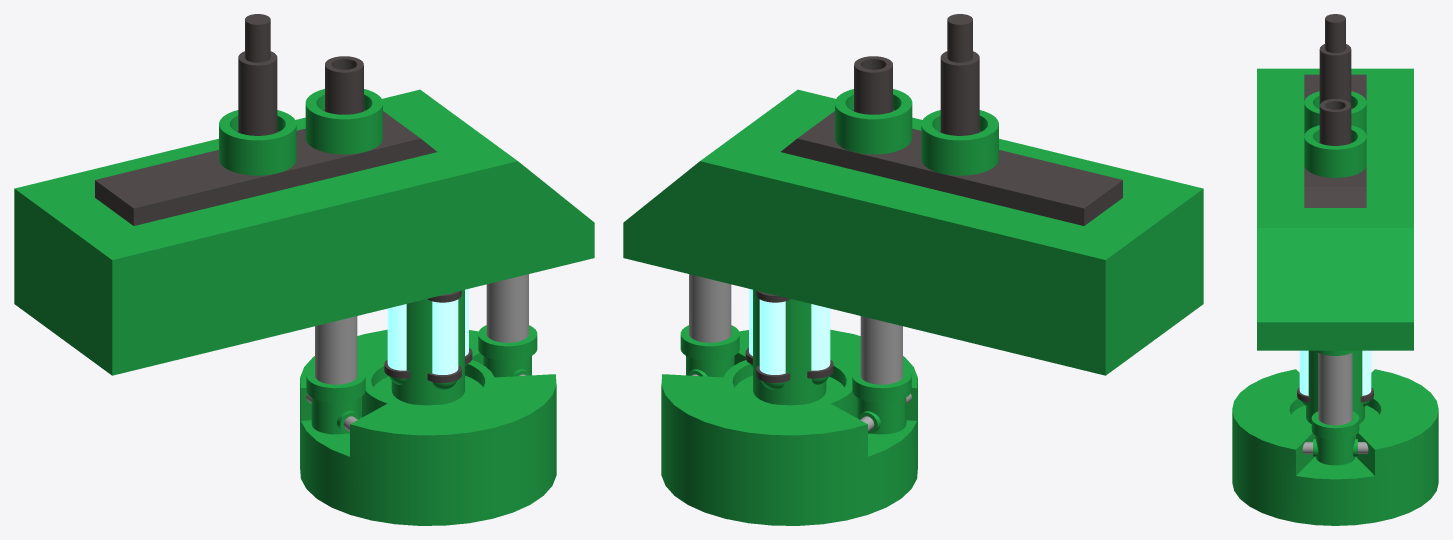
File: Drill_exhaust.fbx
3 views of the same model, side by side, from view 1: azimuth 30°, elevation 25°; view 2: azimuth 150°, elevation 25°; view 3: azimuth 270°, elevation 25° (orthographic). The views are drawn at different scales.
Visible parts, largest first — view 1: Cube.001, Cylinder, Cylinder.004, Cylinder.005, Cylinder.010, Cylinder.008, Cylinder.006, Cylinder.012, Cylinder.003, Cylinder.002, Cylinder.011; view 2: Cube.001, Cylinder, Cylinder.004, Cylinder.005, Cylinder.010, Cylinder.008, Cylinder.006, Cylinder.012, Cylinder.003, Cylinder.002, Cylinder.011; view 3: Cube.001, Cylinder, Cylinder.005, Cylinder.004, Cylinder.006, Cylinder.002, Cylinder.010, Cylinder.012, Cylinder.007.
Part boxes in pixels (x1,y1,x2,y2): Cube.001: (14, 89, 594, 375); Cylinder: (300, 329, 556, 525); Cylinder.004: (219, 14, 296, 175); Cylinder.005: (305, 56, 382, 154); Cylinder.010: (391, 289, 464, 405); Cylinder.008: (315, 316, 357, 384); Cylinder.006: (486, 274, 528, 342); Cylinder.012: (427, 290, 461, 389); Cylinder.003: (306, 367, 365, 434); Cylinder.002: (478, 325, 537, 377); Cylinder.011: (384, 289, 472, 384); Cube.001: (623, 89, 1203, 375); Cylinder: (661, 329, 917, 525); Cylinder.004: (921, 14, 998, 175); Cylinder.005: (835, 56, 912, 154); Cylinder.010: (753, 289, 826, 405); Cylinder.008: (860, 316, 902, 384); Cylinder.006: (689, 274, 731, 342); Cylinder.012: (756, 290, 790, 389); Cylinder.003: (852, 367, 911, 434); Cylinder.002: (680, 325, 739, 377); Cylinder.011: (745, 289, 833, 384); Cube.001: (1257, 68, 1413, 350); Cylinder: (1232, 369, 1438, 525); Cylinder.005: (1304, 99, 1366, 177); Cylinder.004: (1304, 14, 1366, 132); Cylinder.006: (1315, 350, 1355, 425); Cylinder.002: (1311, 411, 1359, 465); Cylinder.010: (1306, 350, 1364, 423); Cylinder.012: (1297, 350, 1373, 406); Cylinder.007: (1302, 439, 1368, 457).
Size of the model in its own units: 69.41 by 67.93 by 32.04.
